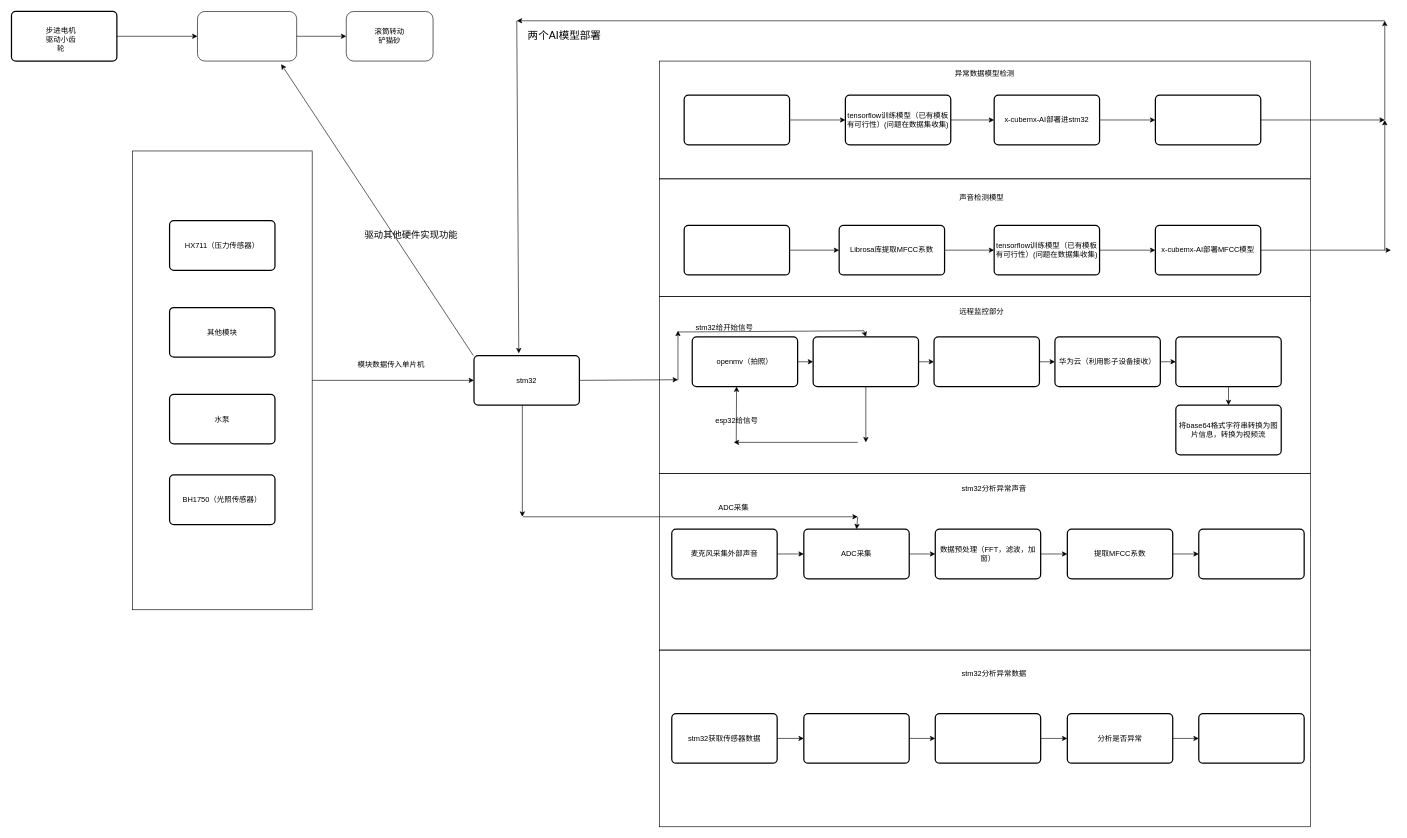
Some shapes in this 1407 by 838 pixel diagram are drawn without their labels. The centre of each missing label's shape, as x and y in pixels:
esp32（利用http请求发送图像数据）: point (986, 361)
传入MFCC模型分析: point (1251, 553)
传入模型: point (987, 738)
同步带的小齿轮带动大齿轮: point (247, 36)
将二进制数据转换为base64格式字符串: point (865, 361)
异常报警: point (1251, 738)
微信小程序轮询获取数据库中数据: point (1228, 361)
收集音频数据: point (736, 249)
数据预处理（归一化）: point (856, 738)
训练数据收集: point (736, 119)
边缘AI异常数据检测，模型(.h5模型): point (1207, 119)
